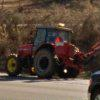Tractor: (6, 16, 92, 81)
